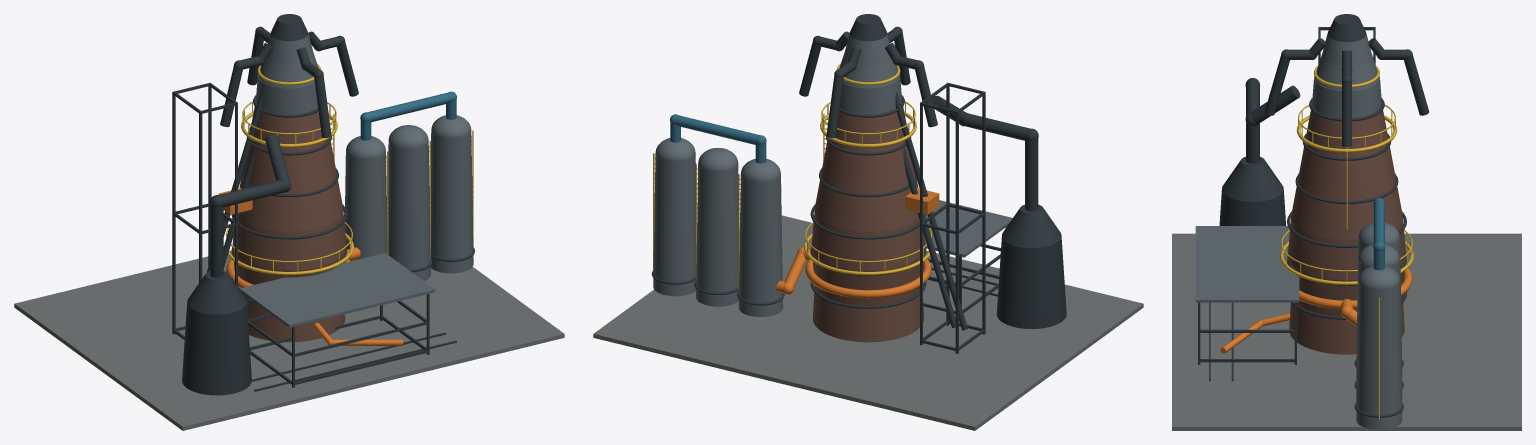
File: blast_furnace.glb
The picture shows the model from 3 angles, left to right: view 1: azimuth 30°, elevation 25°; view 2: azimuth 150°, elevation 25°; view 3: azimuth 270°, elevation 25°; orthographic projection. The views are drawn at different scales.
Parts seen in each view (by area): view 1: reinforced_concrete_foundation, hot_blast, stack_shell, cast_house_roof, dust_catcher, belly, skip_tower_post (×3), dust_catcher_cone, top_gas_offtake_3 (×3), hearth_shell, throat, cast_house_beam (×2) (+14 smaller); view 2: reinforced_concrete_foundation, hot_blast, stack_shell, dust_catcher, belly, hearth_shell, skip_tower_post (×4), bosh, cast_house_roof, dust_catcher_cone, top_gas_offtake_3 (×3), throat (+14 smaller); view 3: reinforced_concrete_foundation, stack_shell, cast_house_roof, hot_blast, belly, hearth_shell, top_gas_offtake_3 (×3), dust_catcher_cone, dust_catcher, throat, bosh, shell_stiffener (×3) (+13 smaller).
Part boxes in pixels (bbox=[...]): reinforced_concrete_foundation: bbox=[14, 250, 564, 430]; hot_blast: bbox=[344, 131, 473, 280]; stack_shell: bbox=[239, 107, 343, 231]; cast_house_roof: bbox=[239, 253, 435, 327]; dust_catcher: bbox=[182, 302, 251, 395]; belly: bbox=[232, 210, 346, 270]; skip_tower_post (×3): bbox=[172, 86, 211, 334]; dust_catcher_cone: bbox=[187, 271, 246, 314]; top_gas_offtake_3 (×3): bbox=[220, 41, 358, 137]; hearth_shell: bbox=[248, 301, 345, 342]; throat: bbox=[256, 74, 317, 114]; cast_house_beam (×2): bbox=[292, 321, 429, 385]; reinforced_concrete_foundation: bbox=[593, 215, 1143, 430]; hot_blast: bbox=[653, 153, 811, 316]; stack_shell: bbox=[814, 107, 918, 231]; dust_catcher: bbox=[996, 236, 1066, 328]; belly: bbox=[811, 210, 925, 270]; hearth_shell: bbox=[812, 285, 924, 342]; skip_tower_post (×4): bbox=[920, 86, 985, 353]; bosh: bbox=[811, 249, 925, 305]; cast_house_roof: bbox=[925, 200, 1012, 257]; dust_catcher_cone: bbox=[1002, 204, 1061, 248]; top_gas_offtake_3 (×3): bbox=[799, 41, 937, 137]; throat: bbox=[840, 74, 901, 114]; reinforced_concrete_foundation: bbox=[1172, 233, 1521, 430]; stack_shell: bbox=[1291, 110, 1402, 239]; cast_house_roof: bbox=[1195, 226, 1299, 302]; hot_blast: bbox=[1340, 238, 1402, 429]; belly: bbox=[1288, 216, 1405, 280]; hearth_shell: bbox=[1289, 295, 1404, 354]; top_gas_offtake_3 (×3): bbox=[1264, 55, 1429, 146]; dust_catcher_cone: bbox=[1222, 156, 1283, 201]; dust_catcher: bbox=[1219, 190, 1286, 225]; throat: bbox=[1312, 76, 1381, 118]; bosh: bbox=[1288, 257, 1405, 316]; shell_stiffener (×3): bbox=[1287, 134, 1406, 247].
Bounding box in the file's own units: 34.79 × 25.84 × 26.
